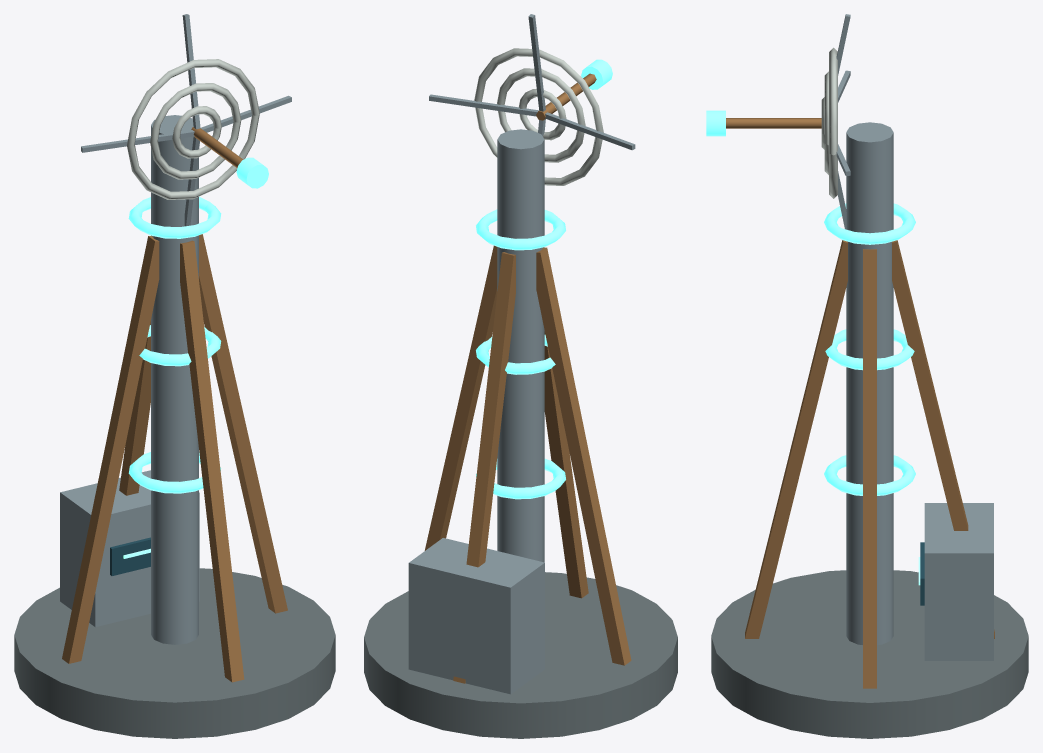
Rendered from relay-mast.lod2.glb.
3 renders of one model, left to right at view 1: azimuth 30°, elevation 25°; view 2: azimuth 150°, elevation 25°; view 3: azimuth 270°, elevation 25°, orthographic. The views are drawn at different scales.
Parts seen in each view (by area): view 1: structure, antenna; view 2: structure, antenna; view 3: structure, antenna.
Boxes of the visible parts, x1,y1,x2,y2 form: structure: (14,115,335,738); antenna: (81,14,291,226); structure: (364,129,677,738); antenna: (429,14,635,185); structure: (711,122,1028,738); antenna: (706,14,850,229).
Size of the model in its own units: 3.2 by 7.3 by 3.25.
